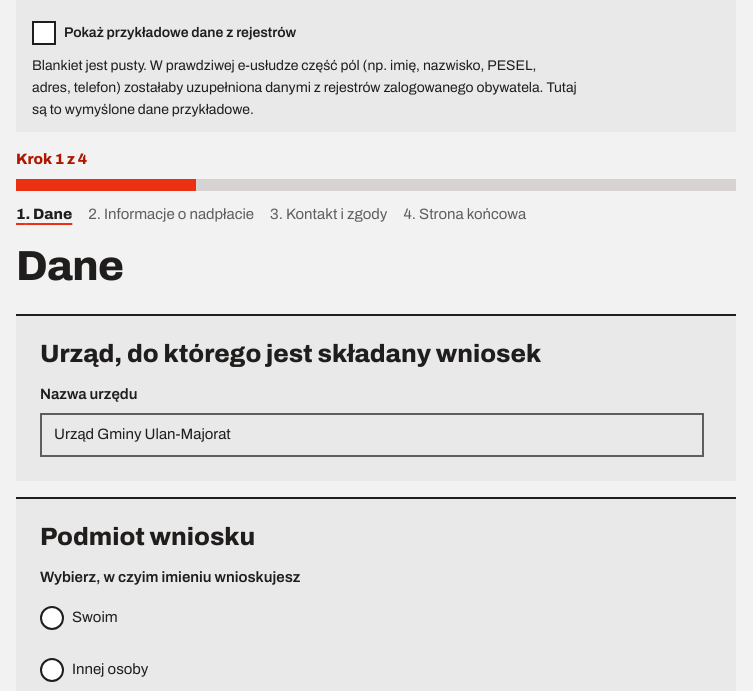
Test case: reference przyklad-5.json › renders every page without unsupported-type notes
Click the checkbox: (44,33) [32,21,56,45]
(page scrolled)
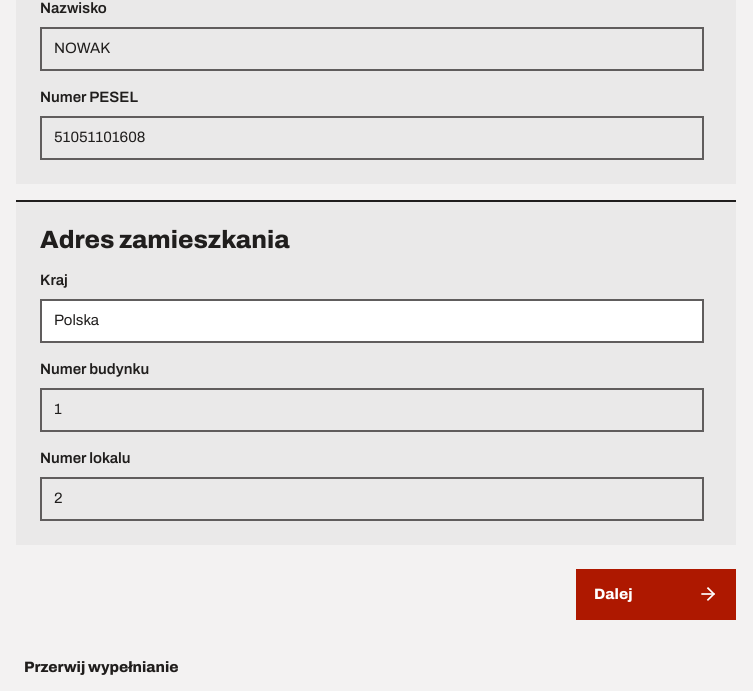
Click the button "Dalej": (656,594) [576,569,736,620]
(page scrolled)
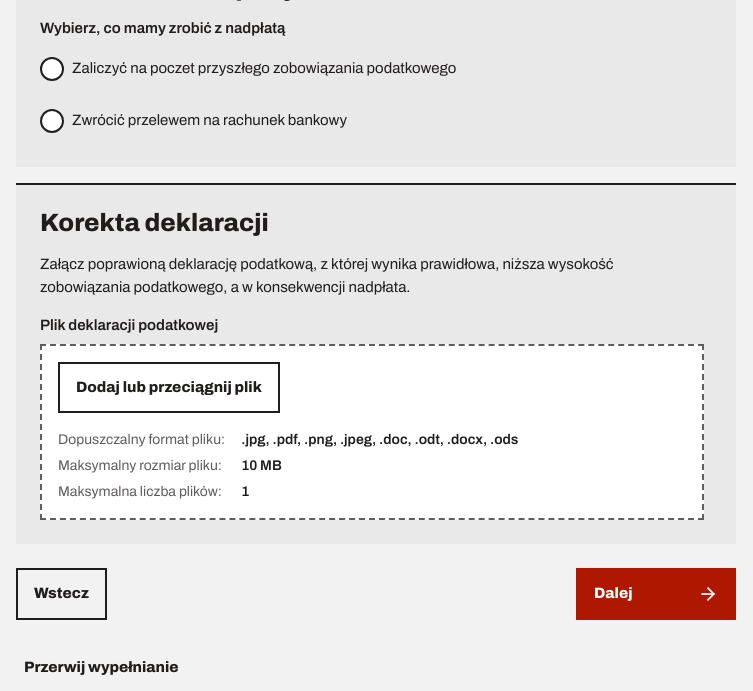
Click the button "Dalej": (656,594) [576,568,736,620]
(page scrolled)
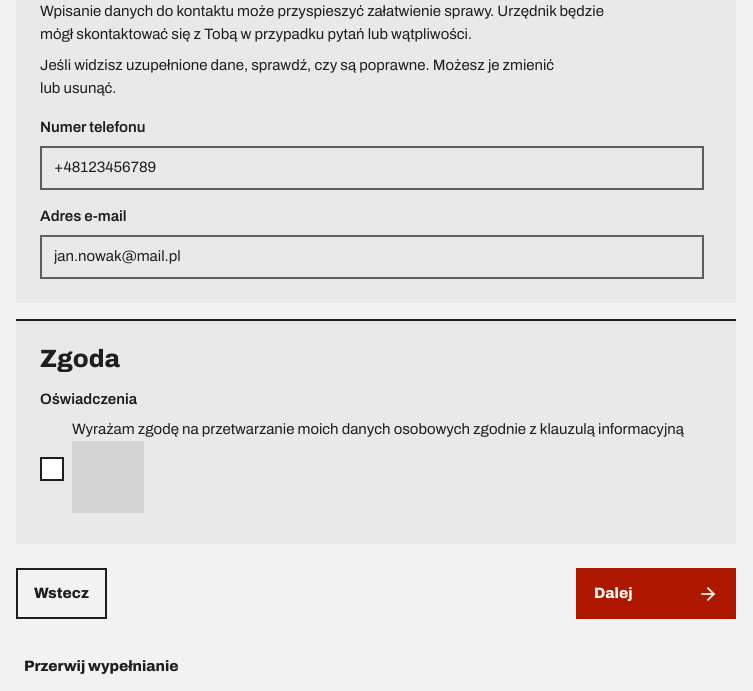
Click the checkbox: (52,469) [40,457,64,481]
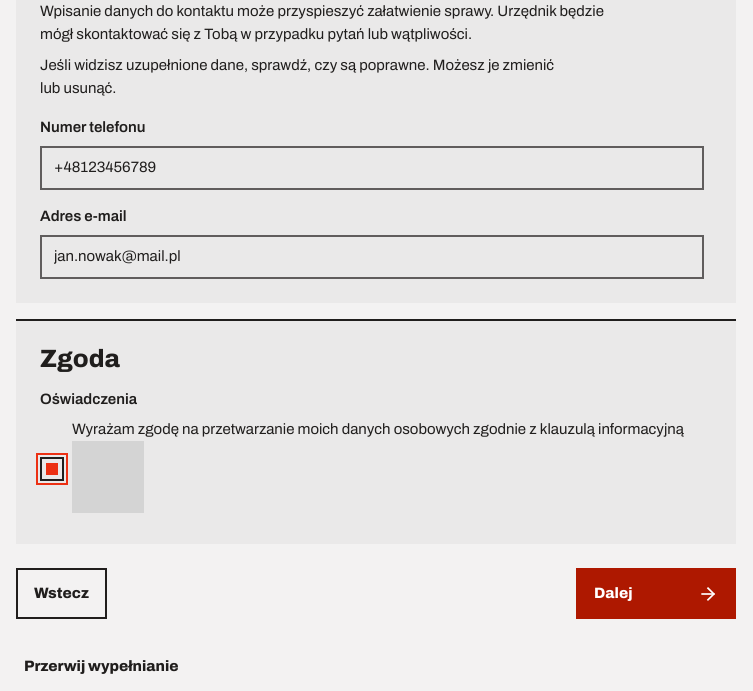
Click the button "Dalej": (656,594) [576,568,736,620]
(page scrolled)
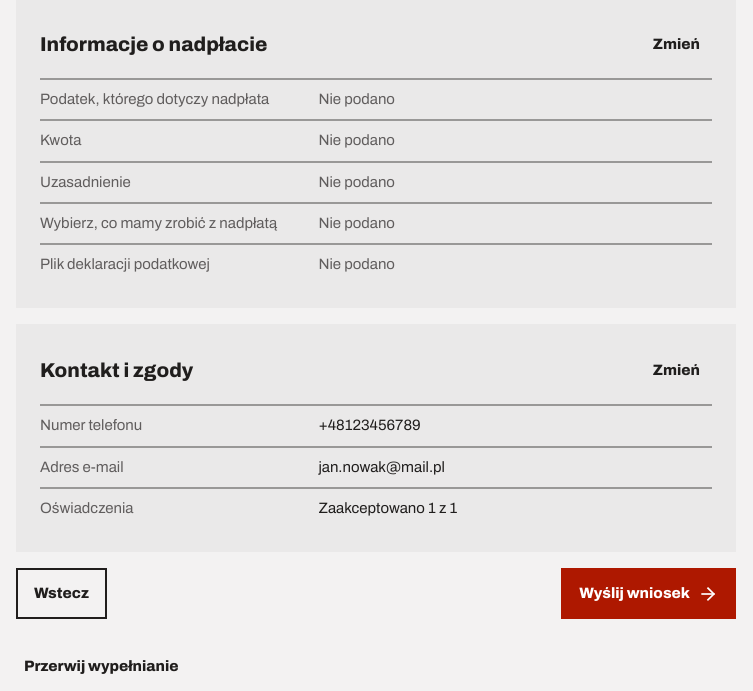
Expected: the button "Wyślij wniosek" is shown, [561,568,736,620]
